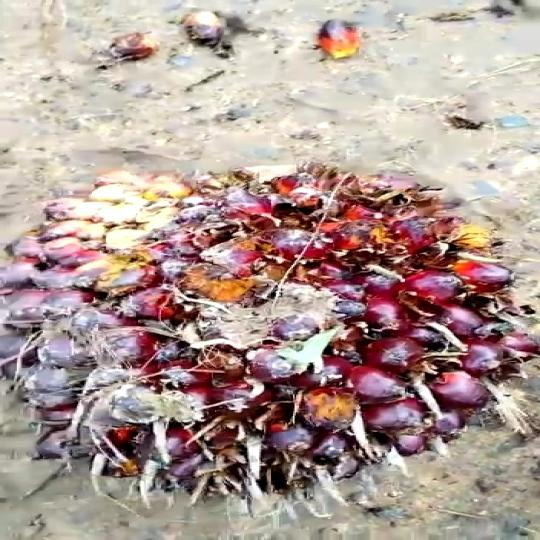masak: (0, 156, 540, 520)
